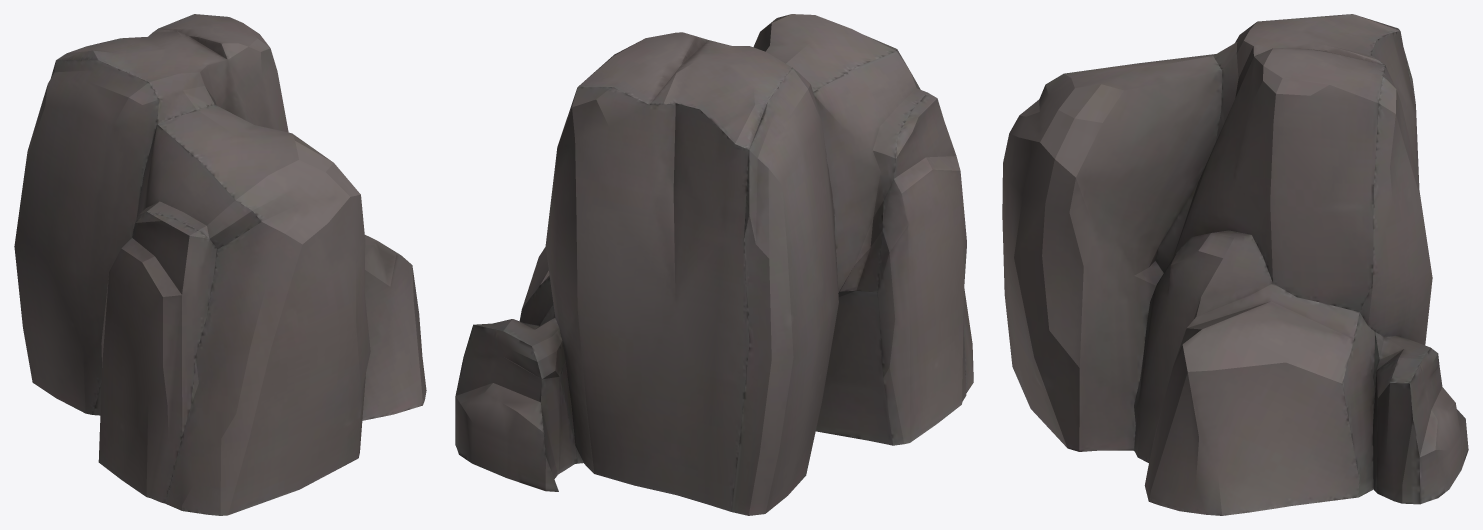
3 renders of one model, left to right at view 1: azimuth 30°, elevation 25°; view 2: azimuth 150°, elevation 25°; view 3: azimuth 270°, elevation 25°, orthographic. The views are drawn at different scales.
Visible parts, largest first — view 1: body0_model0_lod0_mesh0; view 2: body0_model0_lod0_mesh0; view 3: body0_model0_lod0_mesh0.
Part boxes in pixels (x1,y1,x2,y2): body0_model0_lod0_mesh0: (14, 14, 426, 515); body0_model0_lod0_mesh0: (455, 14, 973, 515); body0_model0_lod0_mesh0: (1002, 14, 1468, 515).
Bounding box in the file's own units: 215 × 221 × 247.
1 material, 1 textured.
